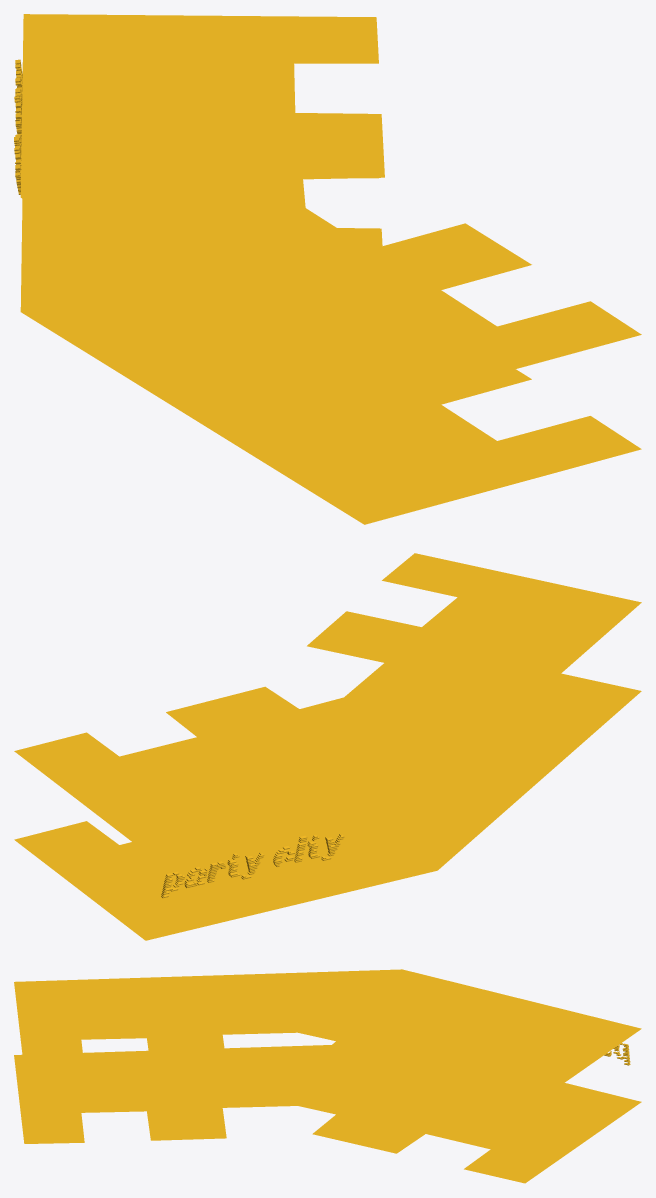
File: element_019 - party city.fbx
The picture shows the model from 3 angles, top to bottom: view 1: azimuth 30°, elevation 25°; view 2: azimuth 150°, elevation 25°; view 3: azimuth 270°, elevation 25°; orthographic projection. The views are drawn at different scales.
Parts seen in each view (by area): view 1: party_city; view 2: party_city; view 3: party_city.
Boxes of the visible parts, x1,y1,x2,y2 form: party_city: (14, 14, 641, 524); party_city: (14, 553, 641, 940); party_city: (14, 969, 641, 1183).
Size of the model in its own units: 2064 by 500 by 3888.
